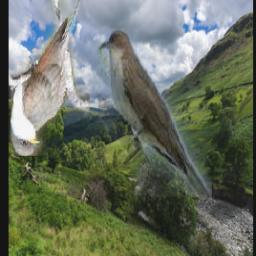Cuckoo: (99, 28, 213, 197), (11, 0, 91, 157)
